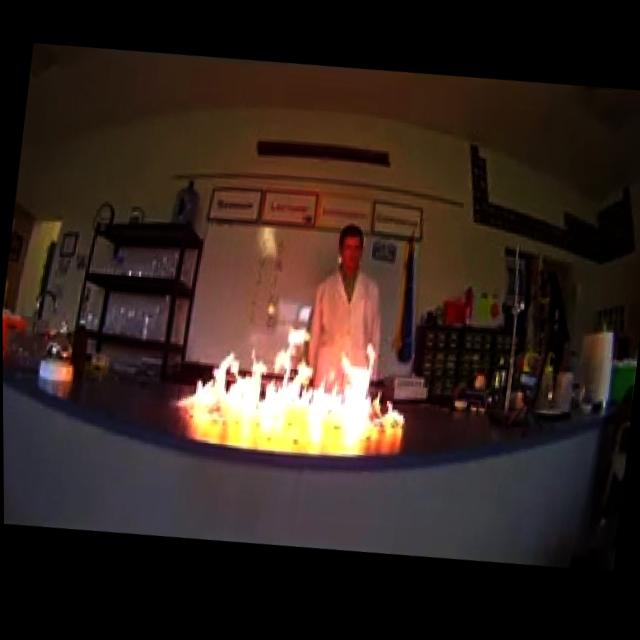helmet: (165, 322, 415, 450)
